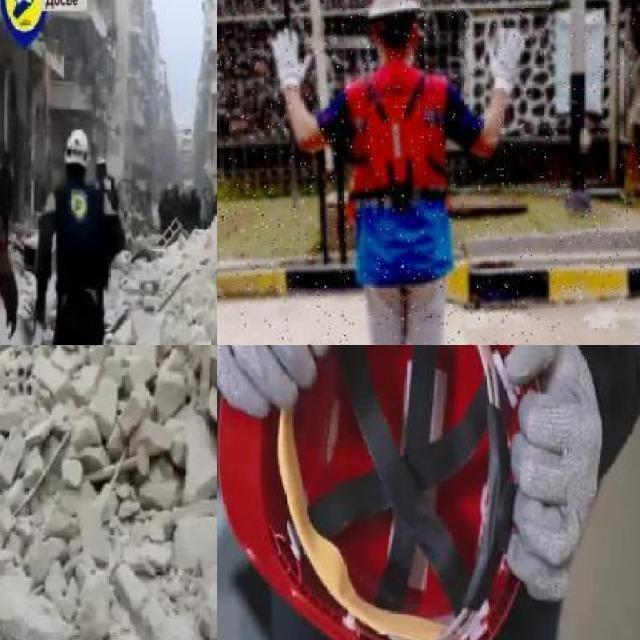apron: (502, 345, 603, 605), (217, 345, 348, 422), (267, 24, 316, 96), (487, 24, 527, 96)
